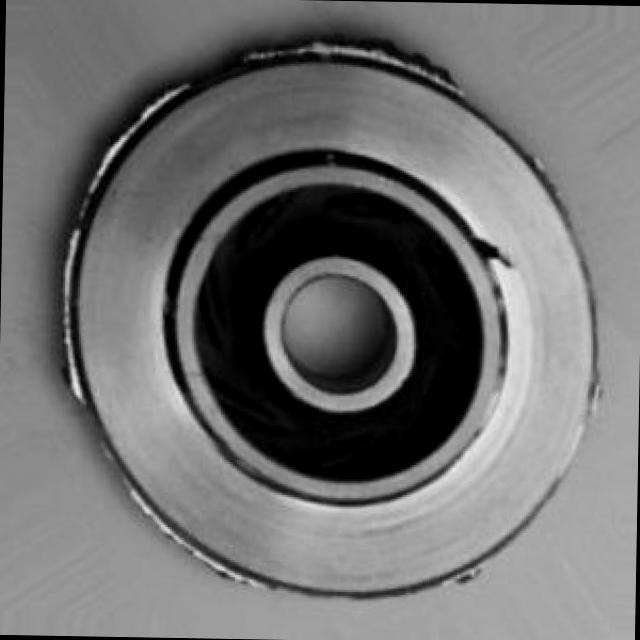Defect: (476, 224, 504, 274)
